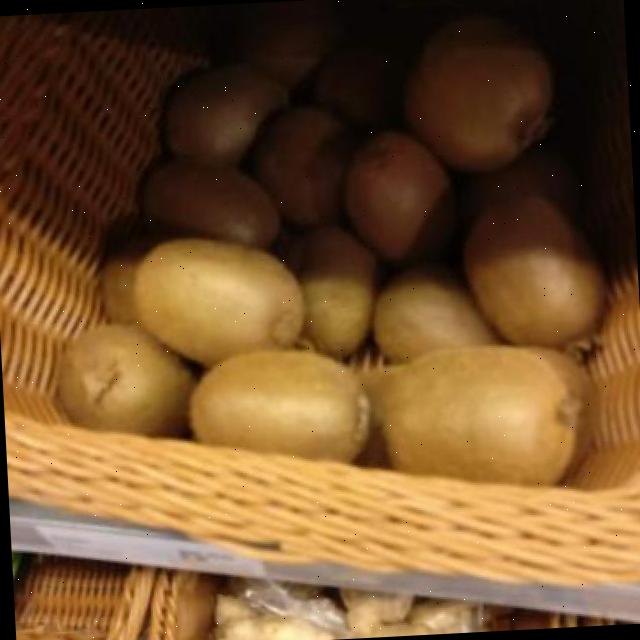kiwi: (385, 345, 580, 484), (406, 19, 551, 169), (135, 239, 304, 364), (465, 198, 603, 344), (190, 350, 368, 462), (59, 325, 194, 436), (346, 131, 448, 260), (165, 65, 287, 165), (145, 160, 279, 247), (374, 271, 496, 361), (256, 107, 344, 225), (99, 218, 158, 323), (306, 273, 372, 356)
